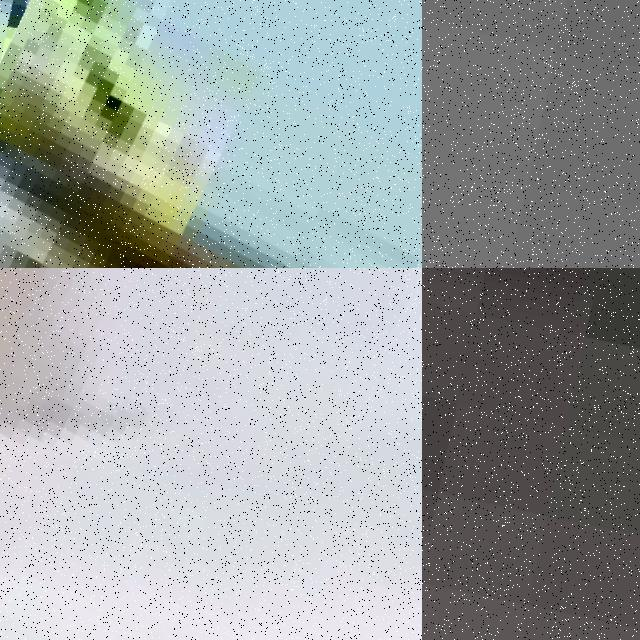0: (0, 0, 422, 268)
drone: (0, 268, 422, 640)
